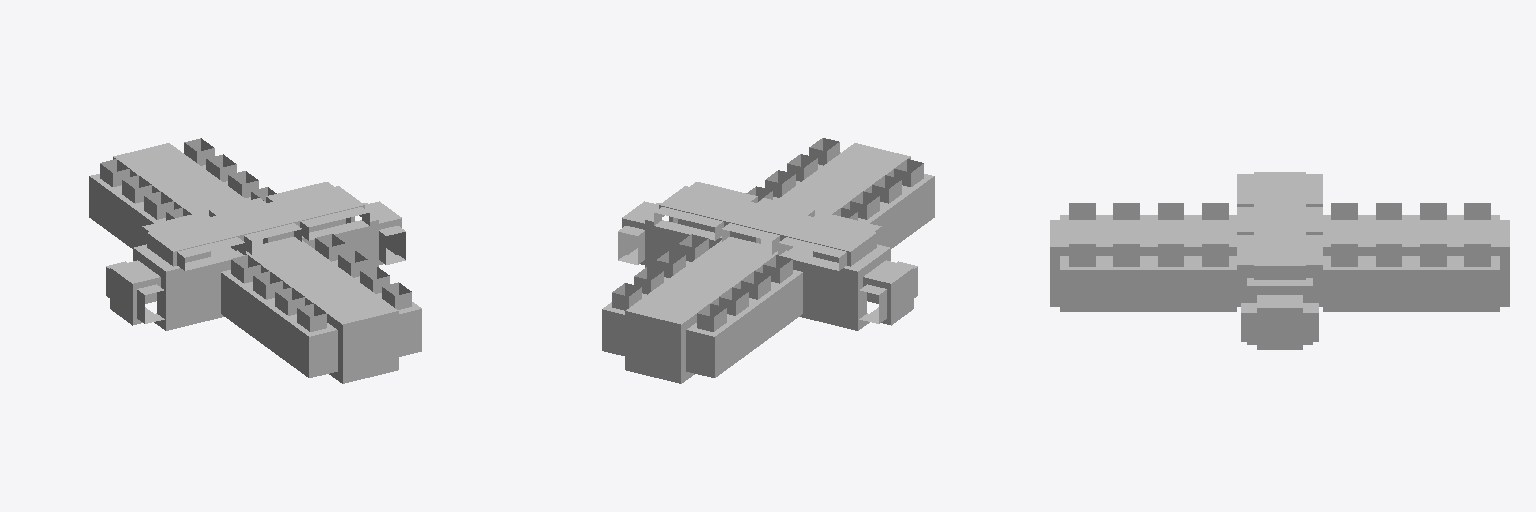
File: hall.obj
3 views of the same model, side by side, from view 1: azimuth 30°, elevation 25°; view 2: azimuth 150°, elevation 25°; view 3: azimuth 270°, elevation 25° (orthographic).
Parts seen in each view (by area): view 1: hall_low_Cube; view 2: hall_low_Cube; view 3: hall_low_Cube.
Part boxes in pixels (x1,y1,x2,y2): hall_low_Cube: (89,138,421,383); hall_low_Cube: (602,138,934,383); hall_low_Cube: (1050,172,1509,349).
Bounding box in the file's own units: 19 × 5 × 28.